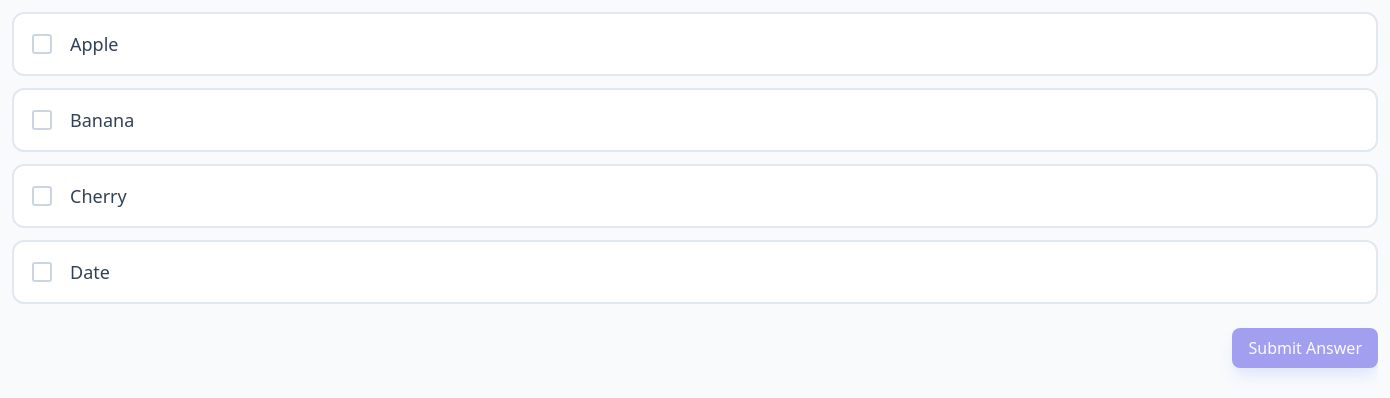
Test: MultipleAnswerInput › should enable submit button when something is selected
Click the button "Apple" at (94, 44), box [12,12,1378,76]
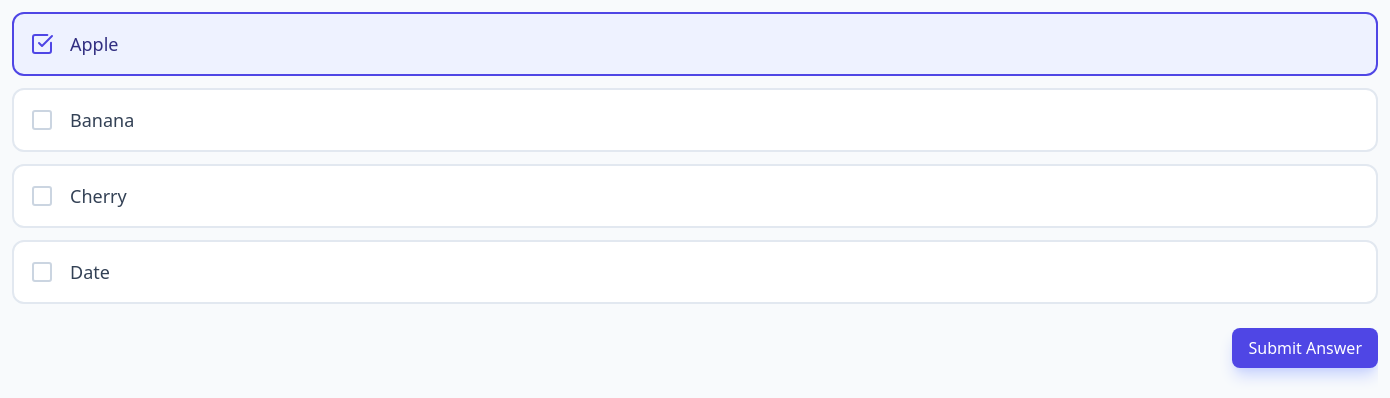
Expected: the button "Submit Answer" is enabled, [1232,328,1378,368]
